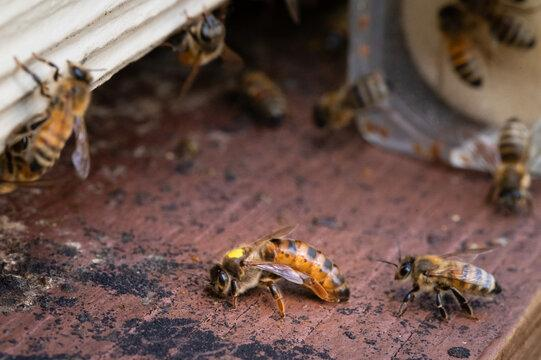Queen-Bee: (209, 226, 349, 316)
worker-bee: (0, 53, 92, 192), (389, 248, 501, 319), (487, 118, 531, 212), (438, 4, 482, 87)
